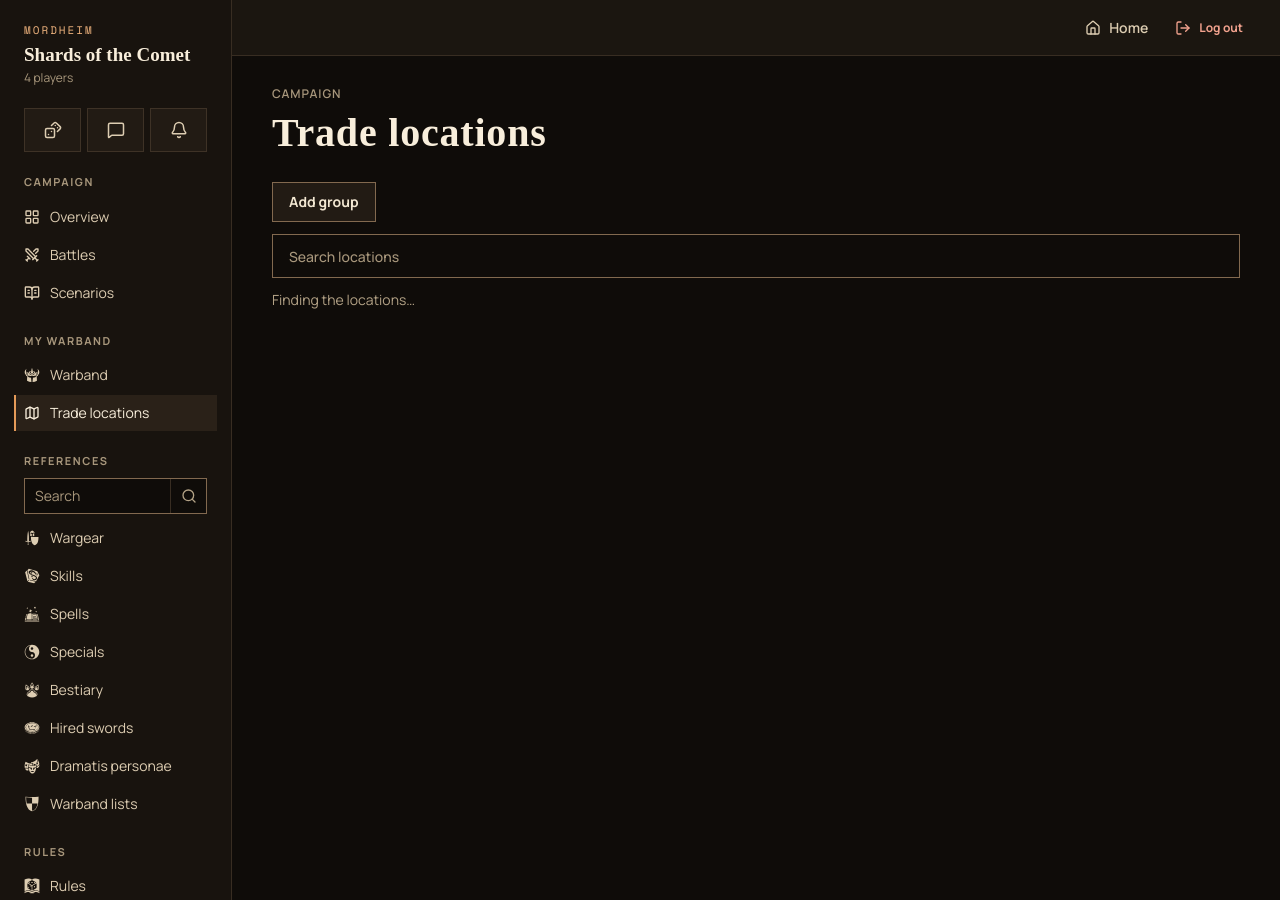
Test: The Locations page › lets one who manages locations add a group
This screenshot has width=1280, height=900.
Click the button "Add group".
click(324, 202)  # box [272,182,376,222]
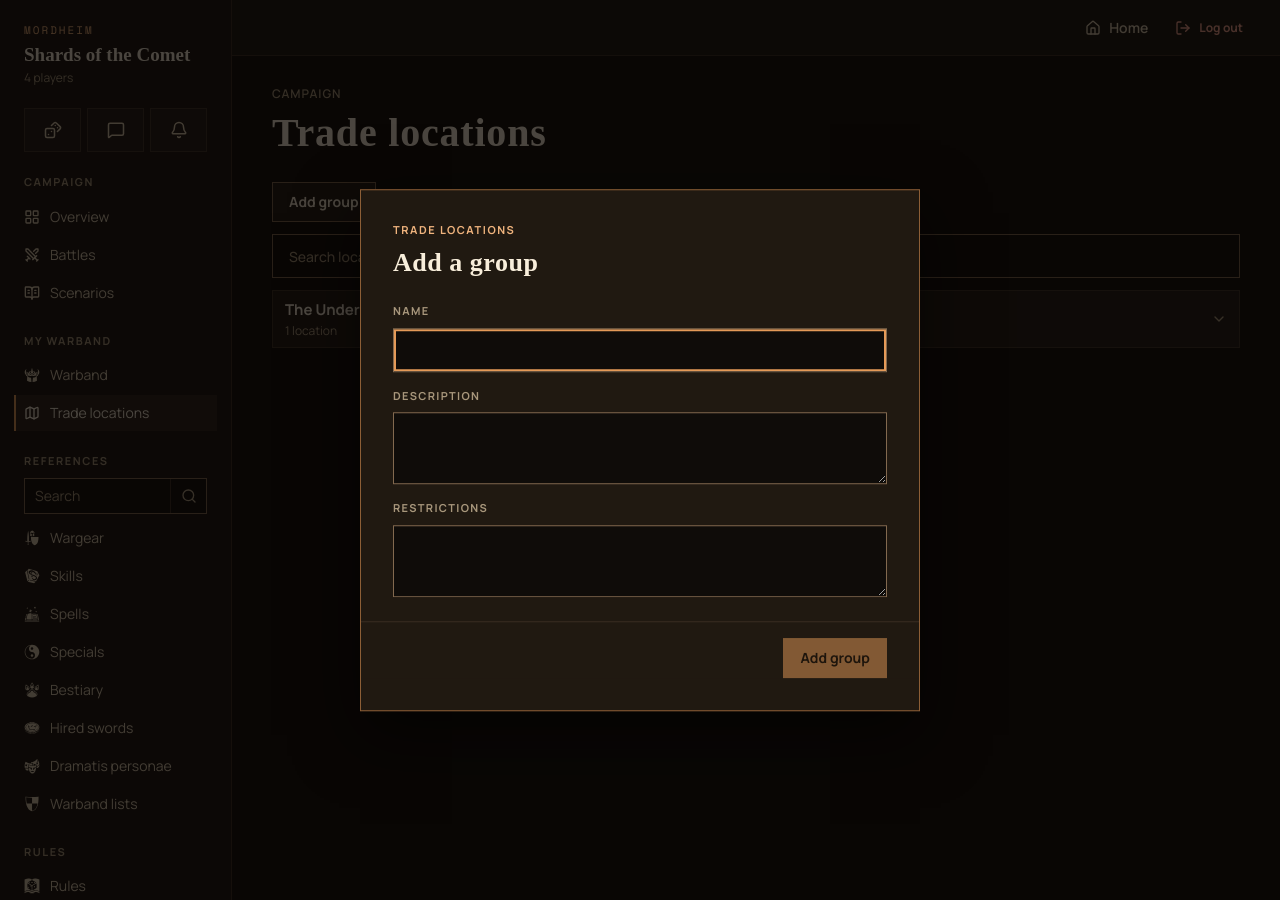
Type "Marketplace" into the field labelled "Name".
click(640, 350); type("Marketplace")  # box [393,328,887,372]
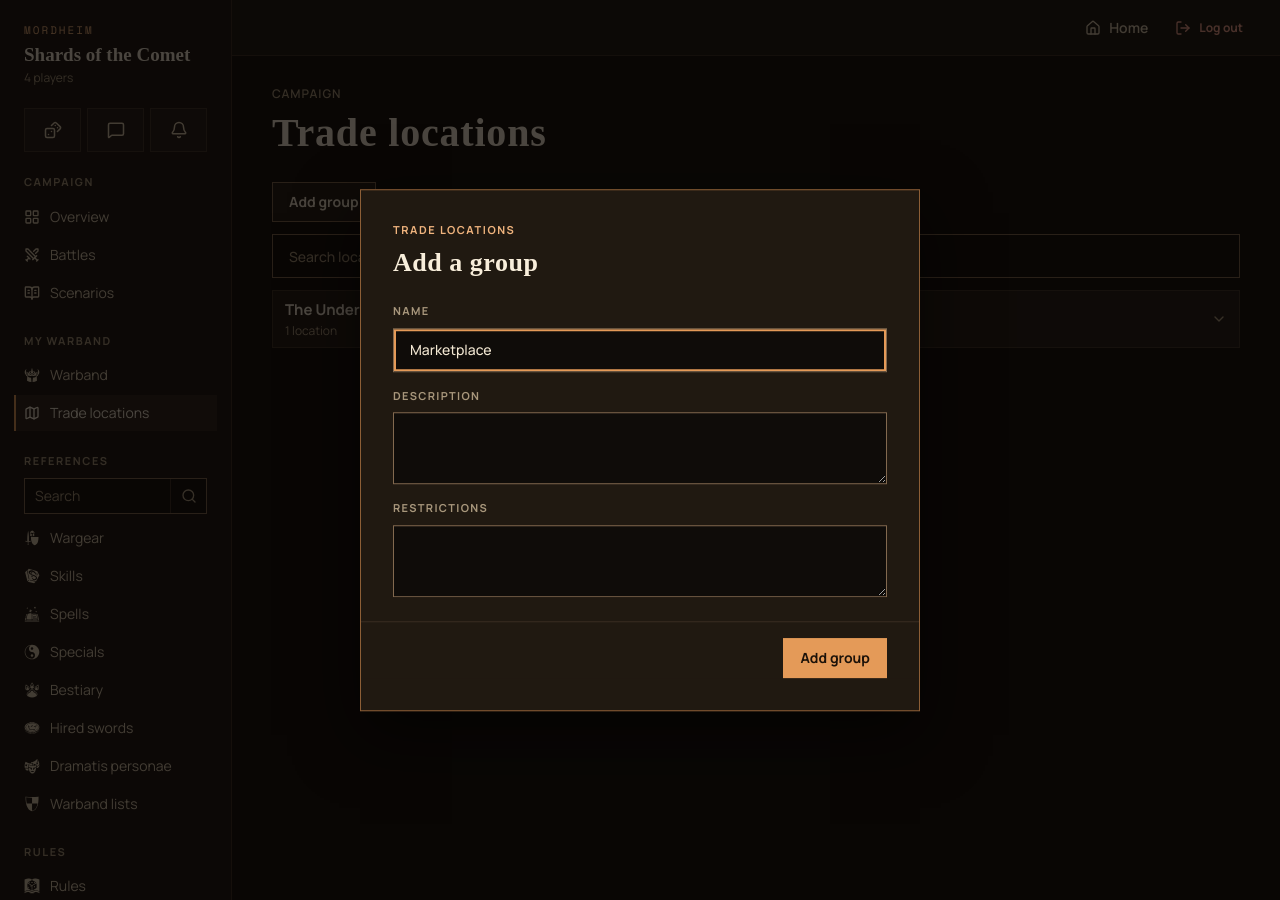
Click the button "Add group".
click(835, 658)  # box [783,638,887,678]
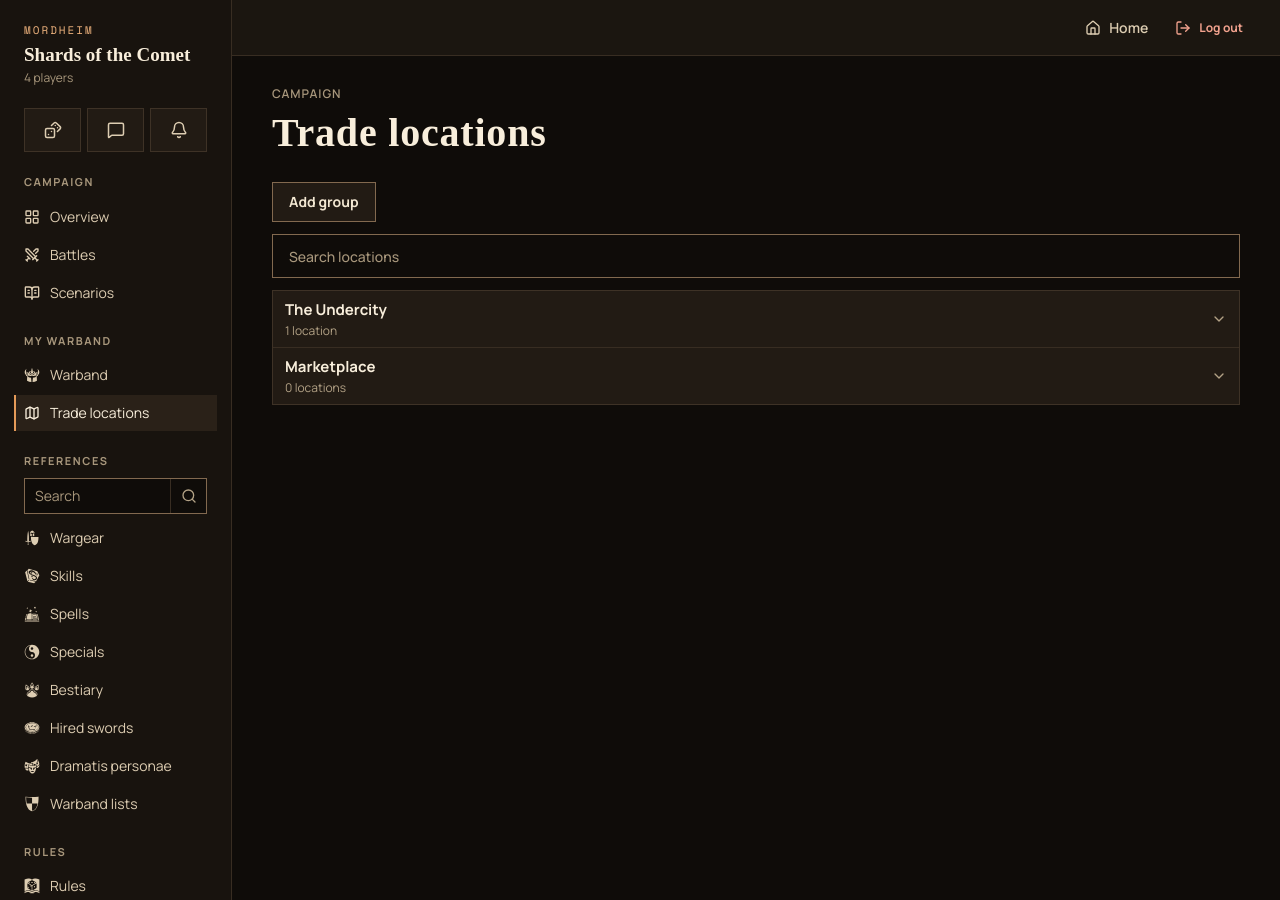
Now the button "Marketplace 0 locations" is shown, box [273,348,1239,404]
